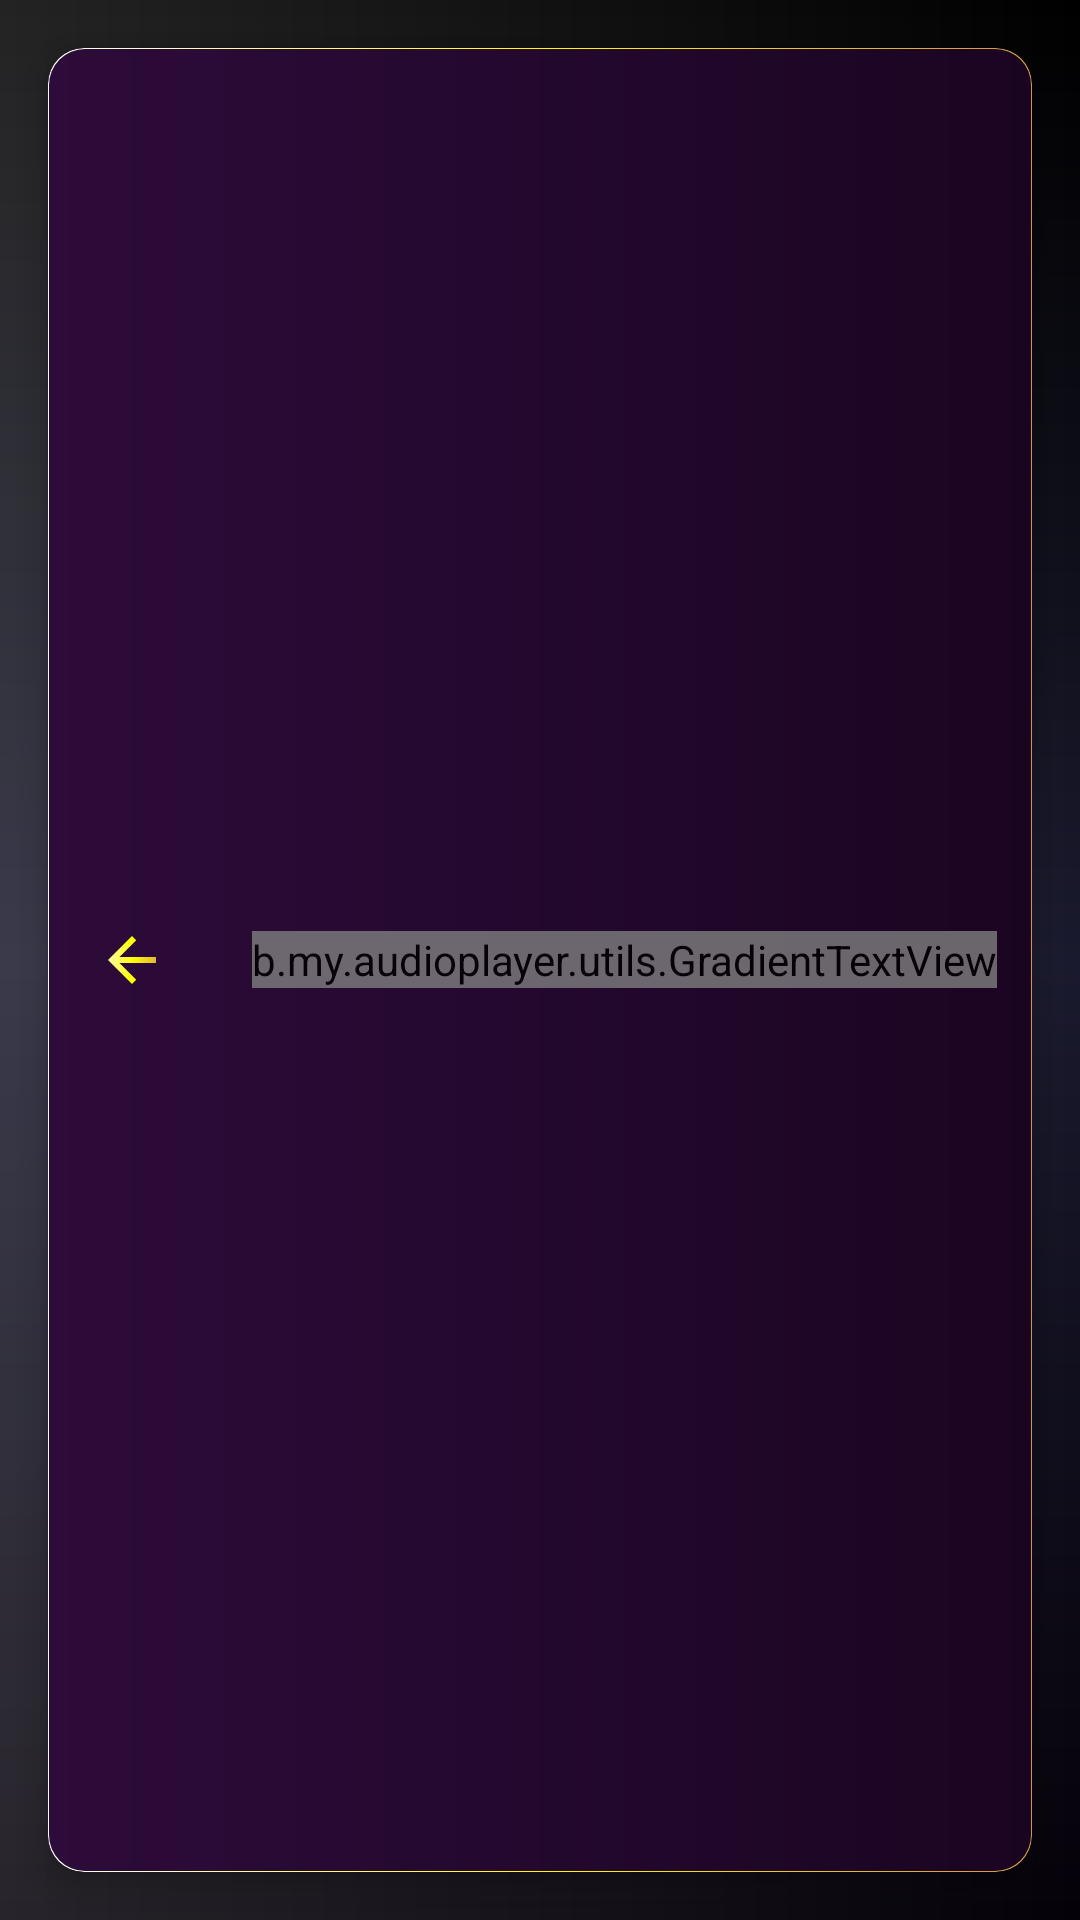

Point at icon controls on the screen. Image size 1080*1920, points as (x,y).
arrow back: (132,960)
